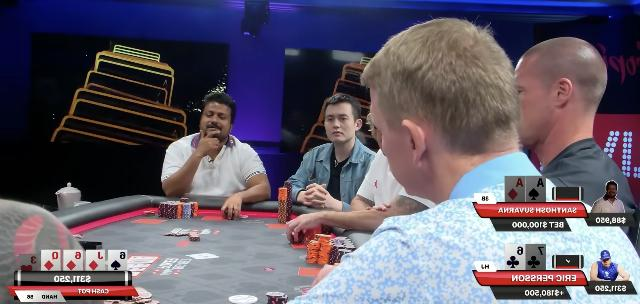3H: (20, 256, 36, 272)
6C: (504, 246, 524, 270)
6D: (64, 252, 82, 272)
6S: (110, 252, 126, 270)
7C: (526, 245, 546, 271)
AD: (506, 177, 524, 203)
AS: (527, 178, 545, 202)
JD: (87, 251, 103, 271)
QD: (41, 251, 59, 271)
